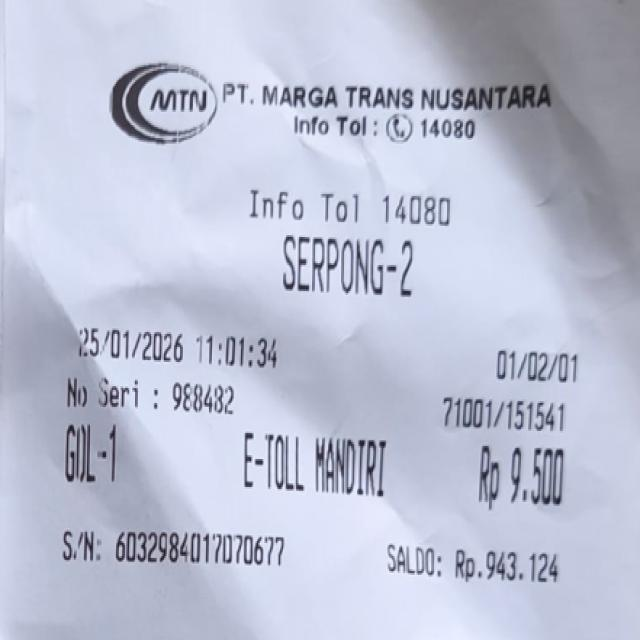date: (61, 318, 284, 378)
store: (218, 75, 562, 116)
total: (463, 443, 575, 517)
